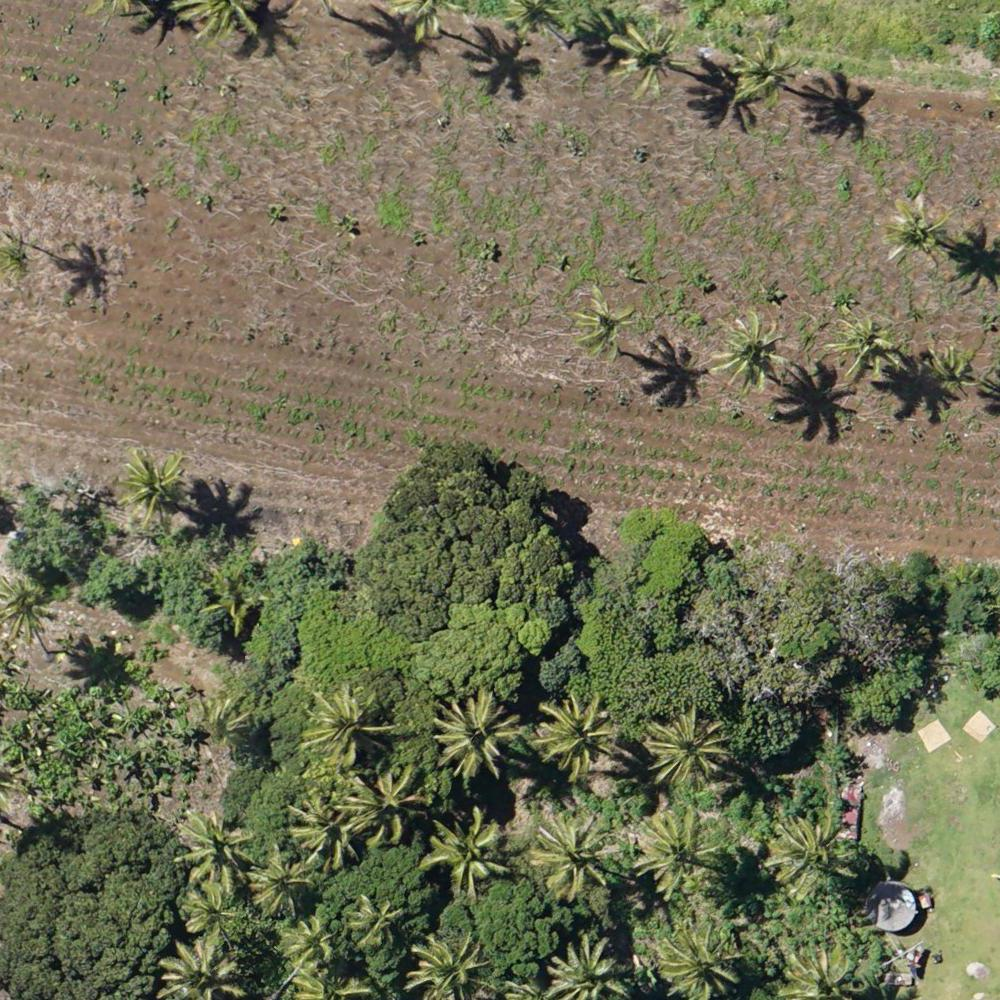Palm: (428, 692, 520, 779), (526, 812, 616, 897), (418, 810, 507, 893), (534, 693, 618, 779), (301, 689, 392, 768), (638, 808, 720, 895), (767, 817, 852, 899), (608, 17, 687, 102), (655, 921, 742, 998), (336, 771, 424, 846), (647, 711, 728, 791), (829, 308, 908, 388), (172, 811, 251, 891), (711, 310, 791, 388), (405, 933, 494, 1000), (287, 790, 363, 866), (542, 933, 627, 1000), (117, 444, 191, 519), (884, 199, 958, 273), (571, 288, 640, 358), (736, 34, 801, 105), (249, 850, 313, 919), (179, 883, 237, 943), (351, 893, 406, 948), (281, 917, 336, 967)
